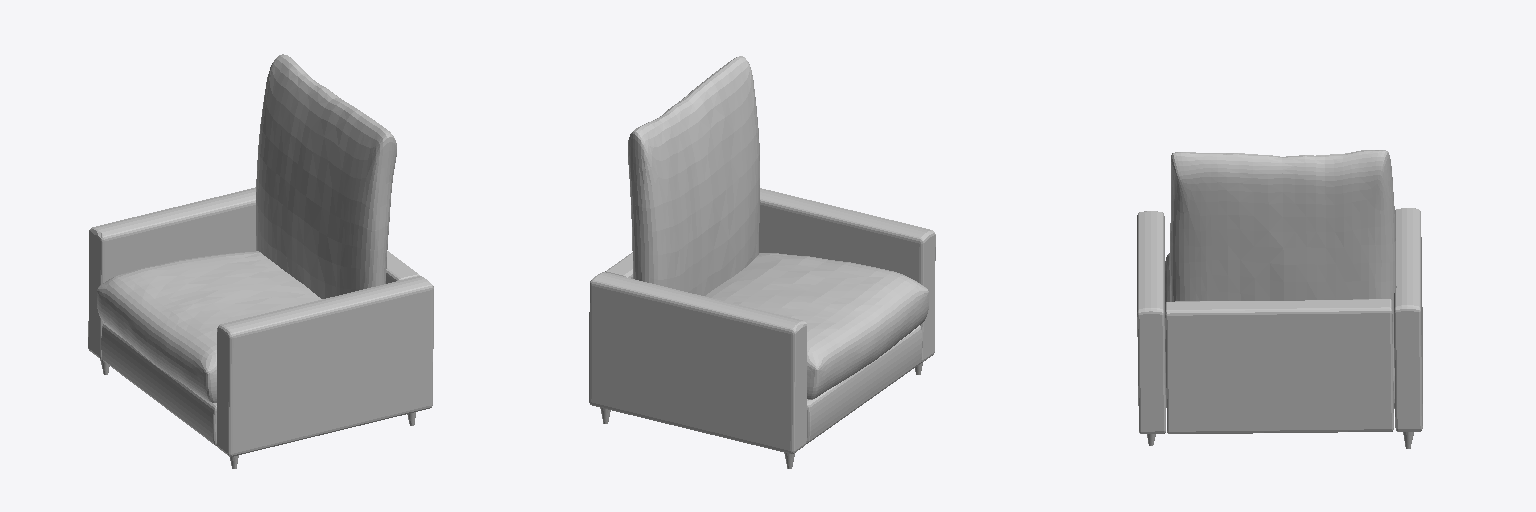
The model's file is Sofa3.obj.
The picture shows the model from 3 angles: view 1: azimuth 30°, elevation 25°; view 2: azimuth 150°, elevation 25°; view 3: azimuth 270°, elevation 25°; orthographic projection.
Bounding box in the file's own units: 32.56 × 41.3 × 37.03.